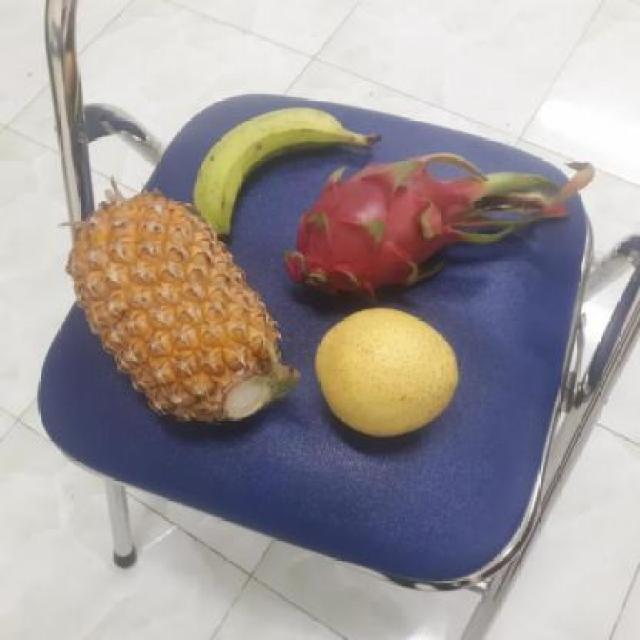banana: (185, 108, 362, 238)
dragon fruit: (280, 156, 474, 310)
pear: (308, 308, 460, 442)
pineapple: (69, 198, 289, 425)
